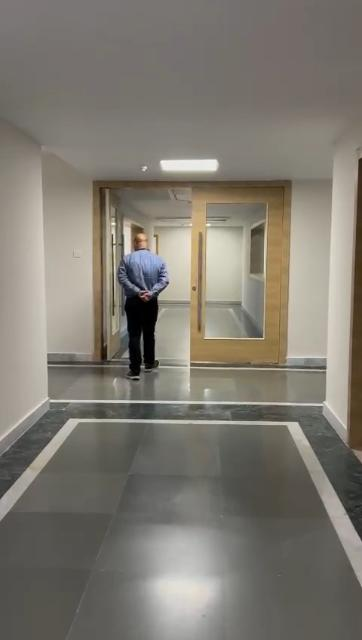door: (186, 177, 284, 367)
floor: (0, 368, 362, 640)
moving-obj: (111, 238, 171, 370)
wall: (0, 117, 90, 437), (299, 182, 353, 356)
